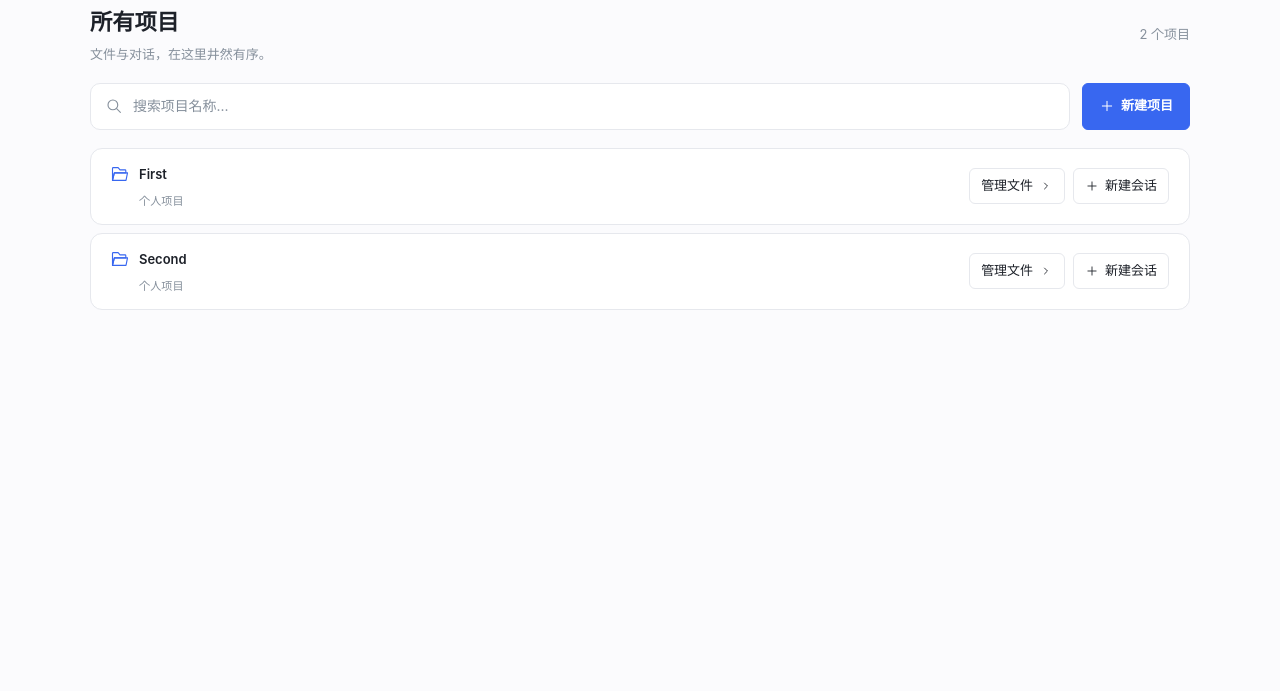
Test: unmounts the old manager and aborts its requests when another project is opened
Click the button "管理文件" in the row of "First" at (1017, 186), box [969, 168, 1065, 204]
(page scrolled)
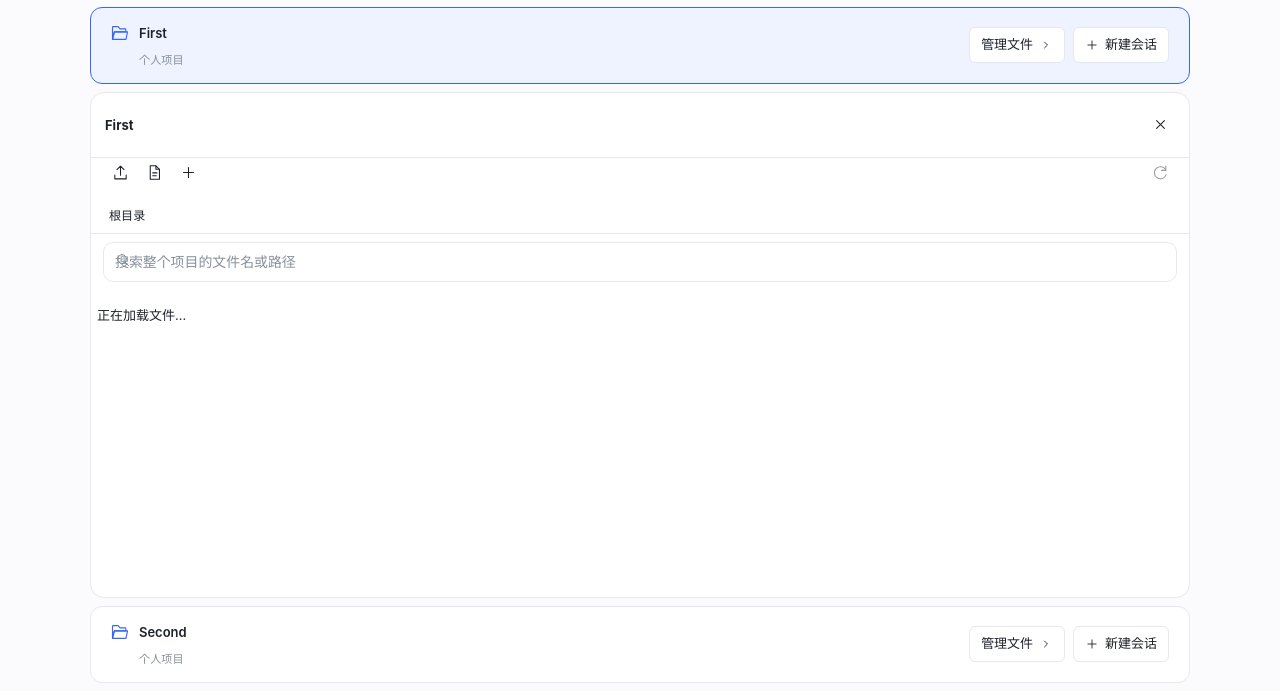
Click the button "管理文件" in the row of "Second" at (1017, 644), box [969, 626, 1065, 662]
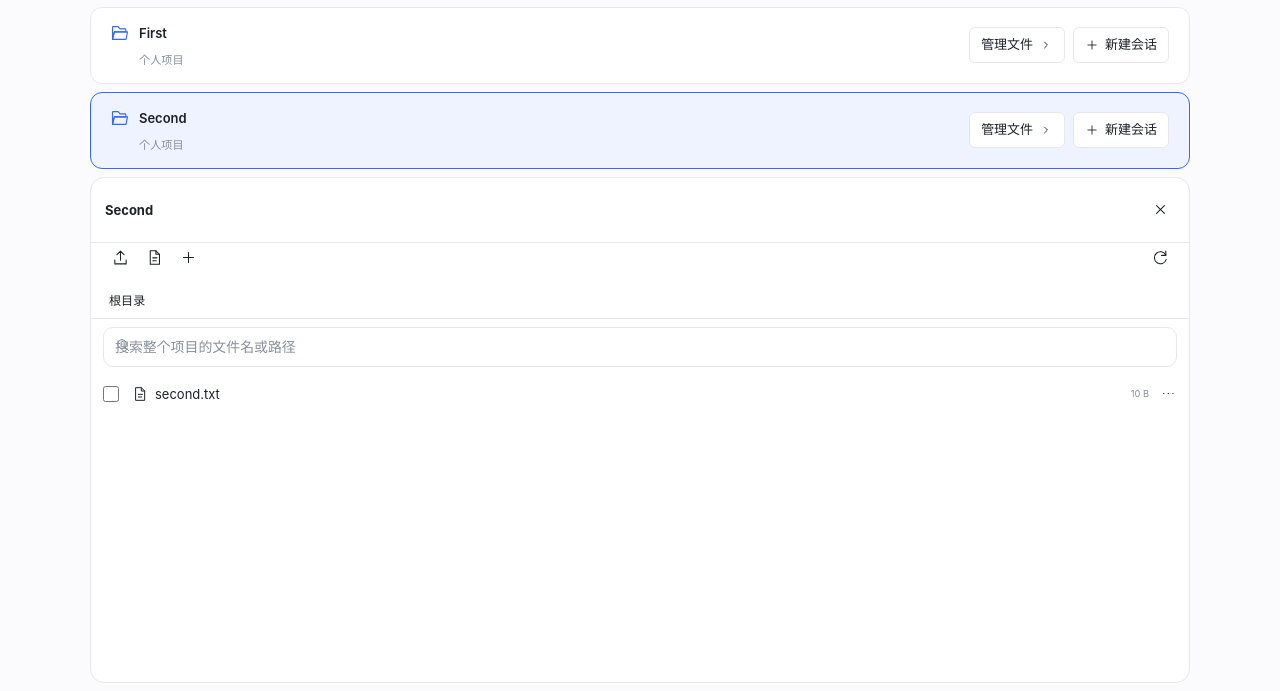
Expected: the number of elements named "项目文件" is 1
Expected: the button "second.txt" is shown, [129, 377, 1127, 411]
